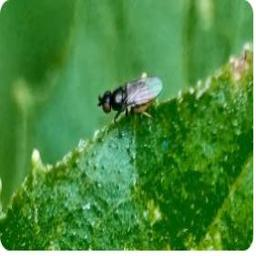liriomyza: (100, 73, 164, 126)
